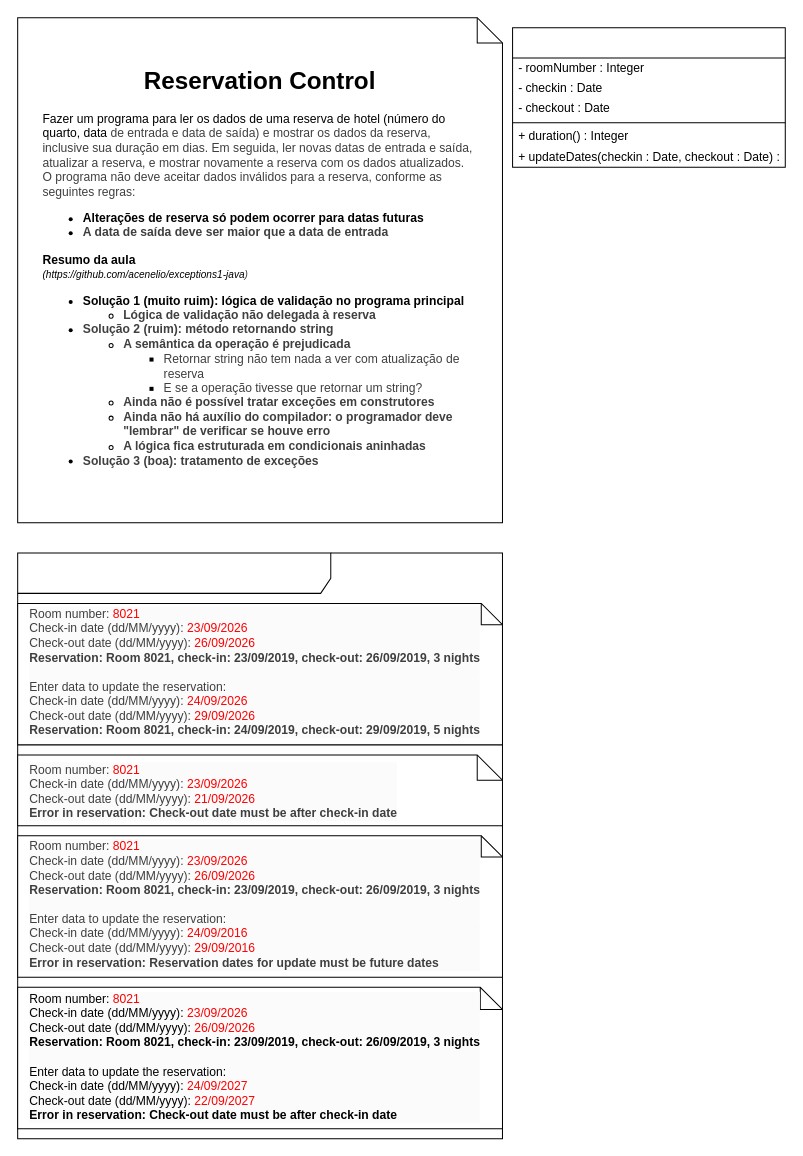
Image size: 803x1156. Some labels were removed from this diagram. Here are the shapes that lost their labels. From the top down, the box of each, then its label:
(512, 27, 785, 167): Reservation
(17, 552, 502, 1139): Execution Examples
